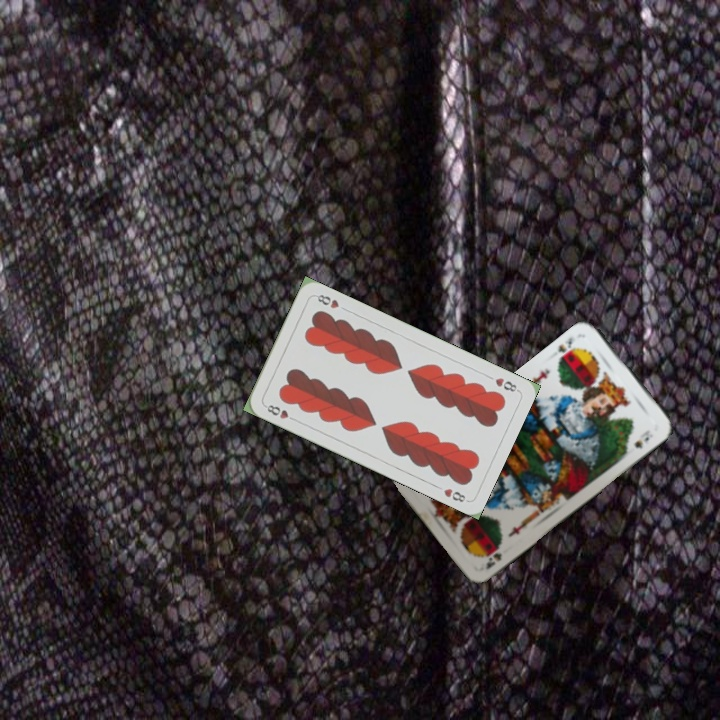H8: (261, 400, 299, 424), (491, 373, 521, 395)
SK: (554, 333, 581, 364), (482, 543, 505, 572)
